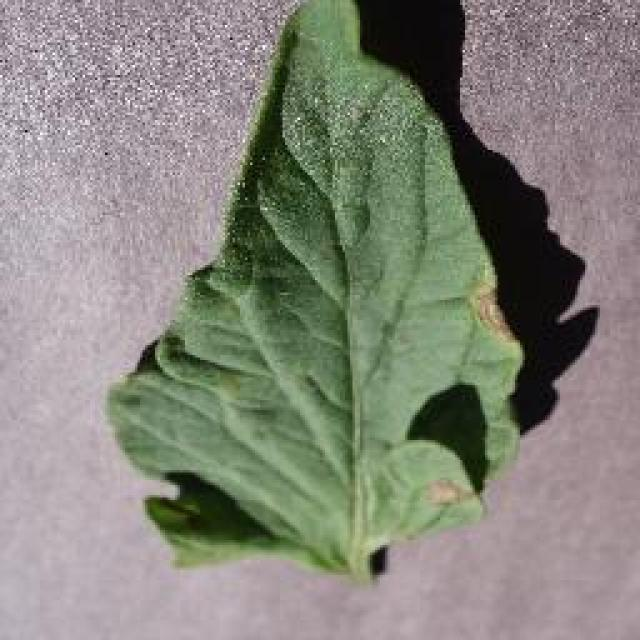Tomato Early blight leaf: (103, 4, 525, 598)
